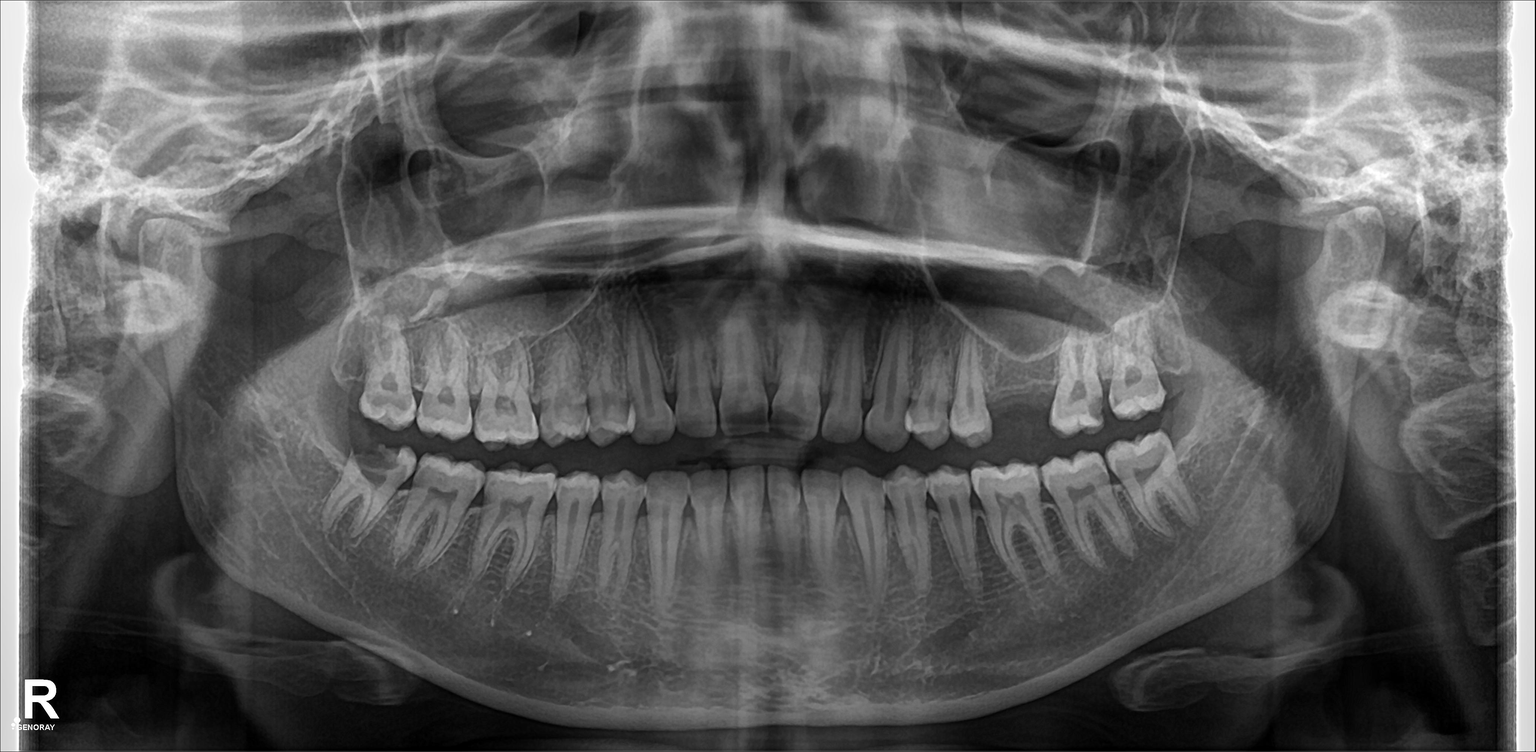Dental Caries: (350, 443, 396, 487), (723, 404, 764, 435)
Missing Tooth: (1002, 352, 1056, 432)
